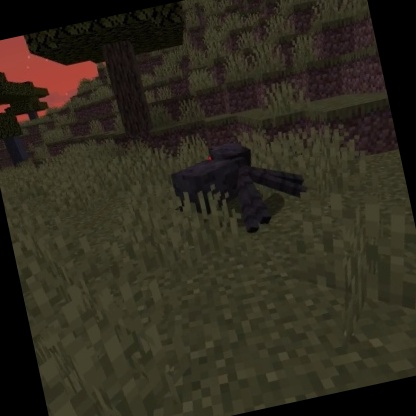spider: (163, 122, 316, 252)
